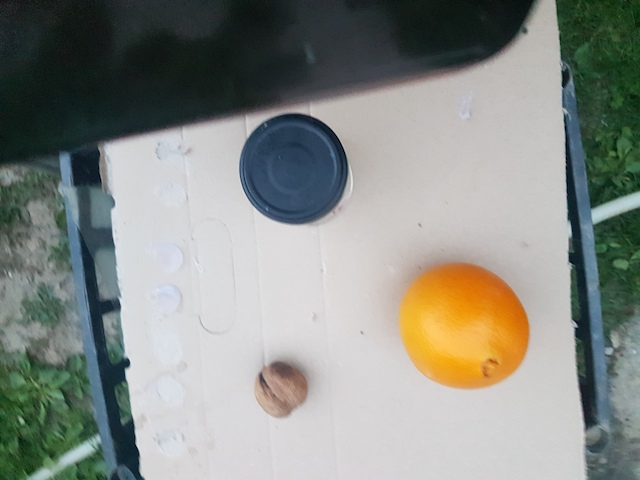nut: (252, 359, 309, 419)
orange: (398, 262, 533, 390)
recipient: (236, 110, 347, 223)
